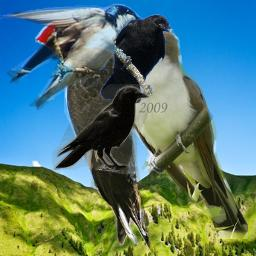Crow: (52, 84, 150, 174), (100, 14, 174, 105)
Cuckoo: (112, 23, 248, 239)
Swallow: (0, 2, 142, 111)
Woodpecker: (35, 18, 153, 252)
